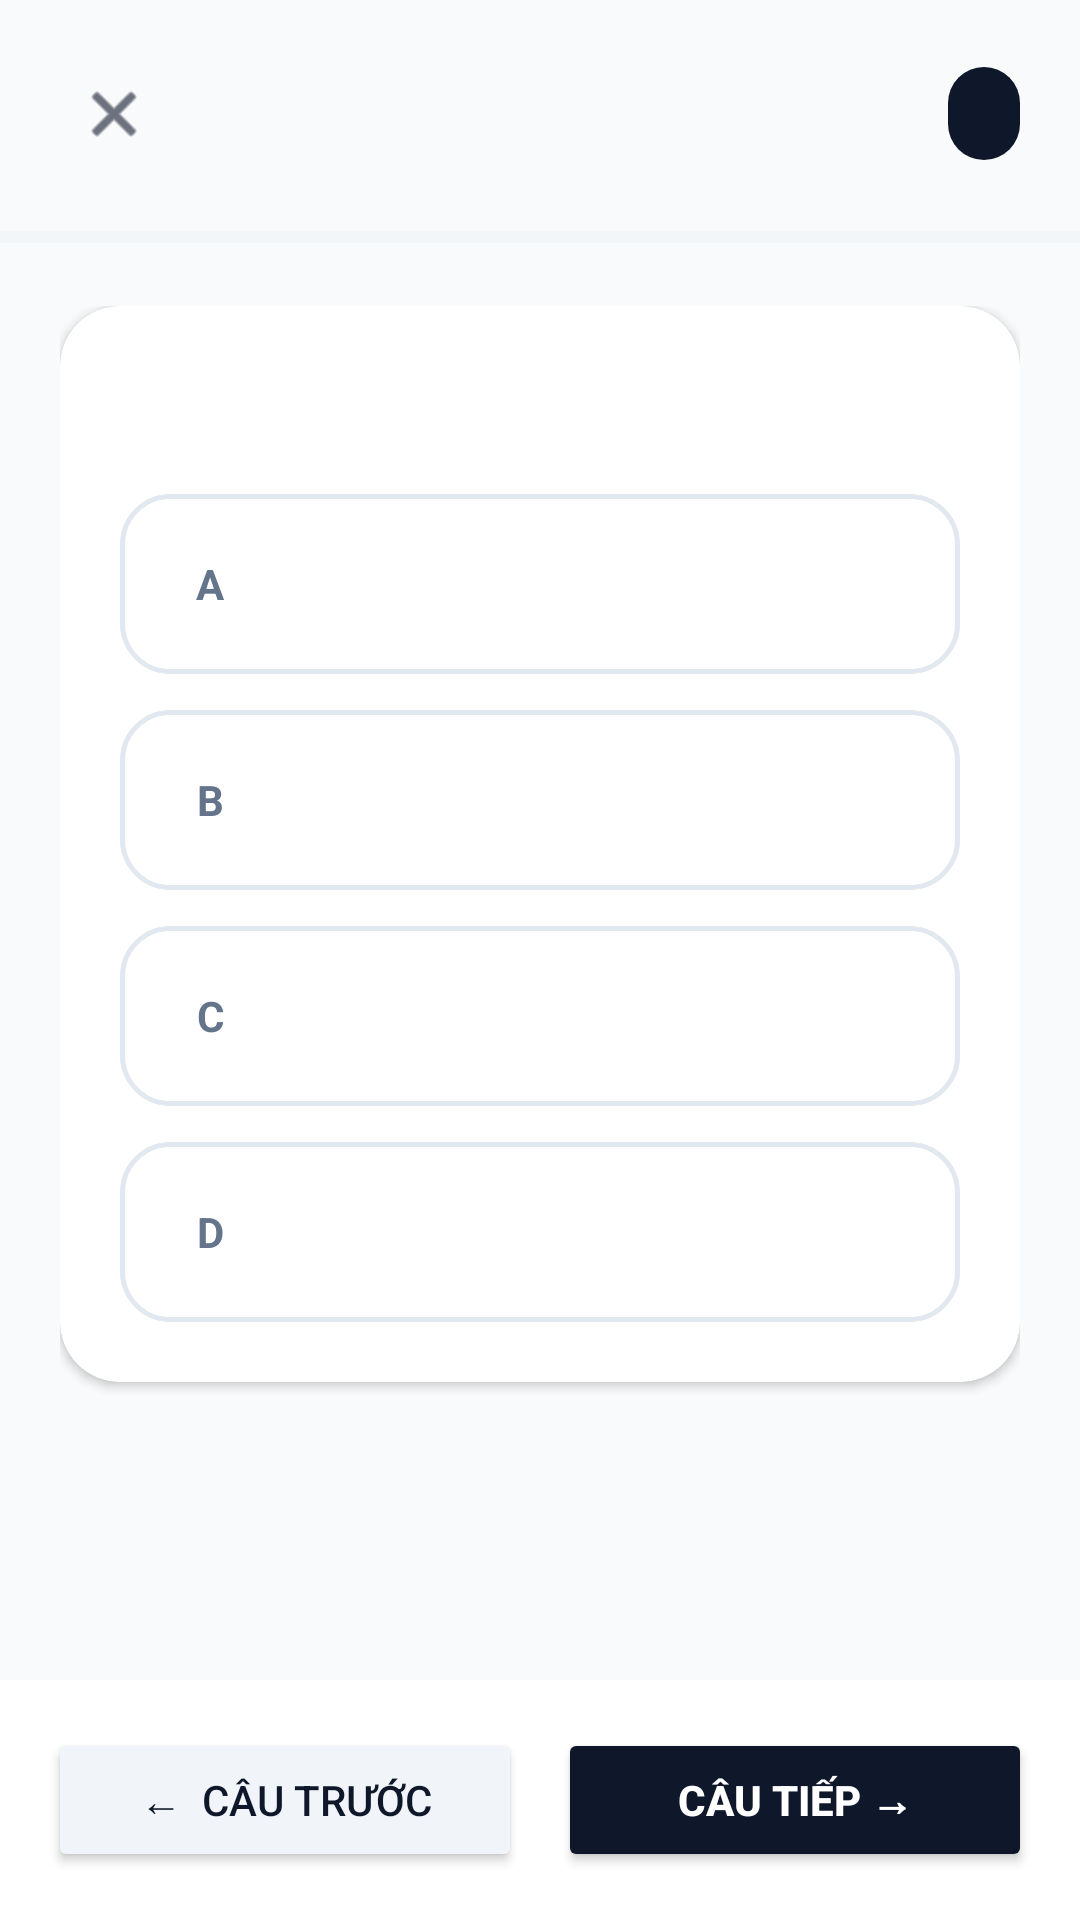

Where icons sit on this 1080×1920 app screen, as (x1, y1, x2, y2):
close clear cancel: (91, 91, 137, 137)
